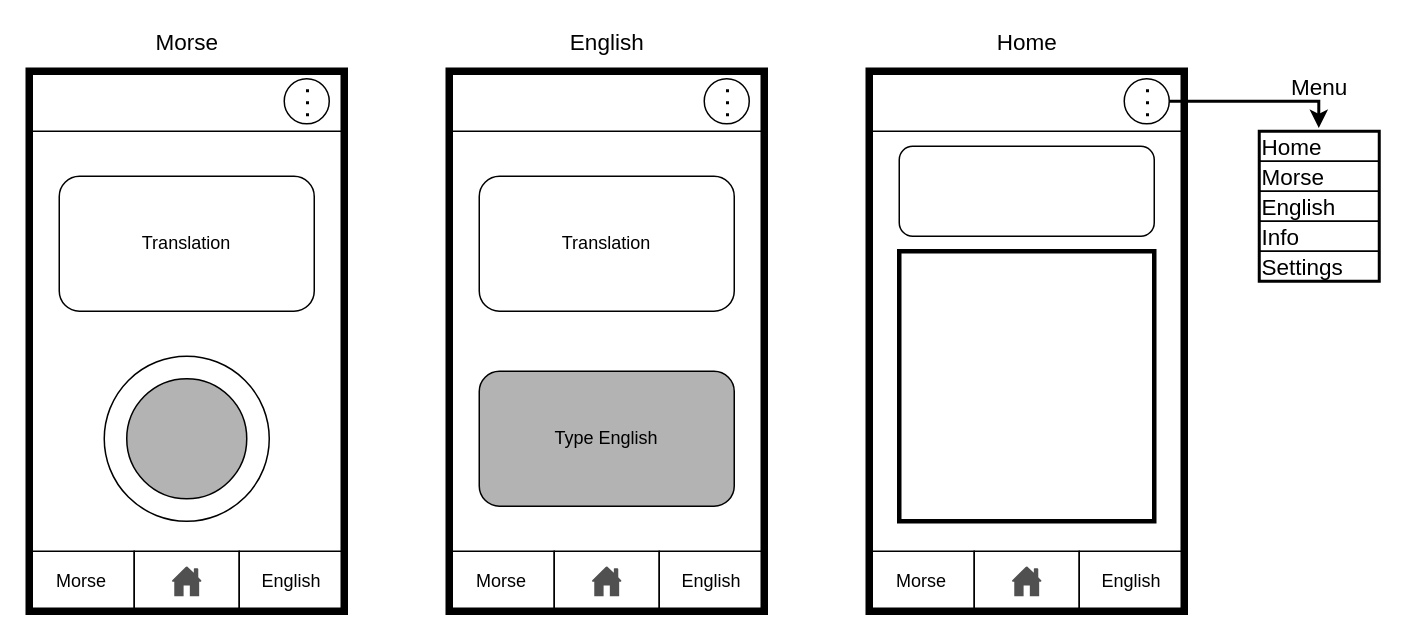
Some shapes in this 1407 by 641 pixel diagram are drawn without their labels. The centre of each missing label's shape, as x and y in pixels:
List of Morse Code and associated letters.: (1026,385)
Press: (186,438)
Welcome! Morse code symbols and letters are below.: (1026,190)
